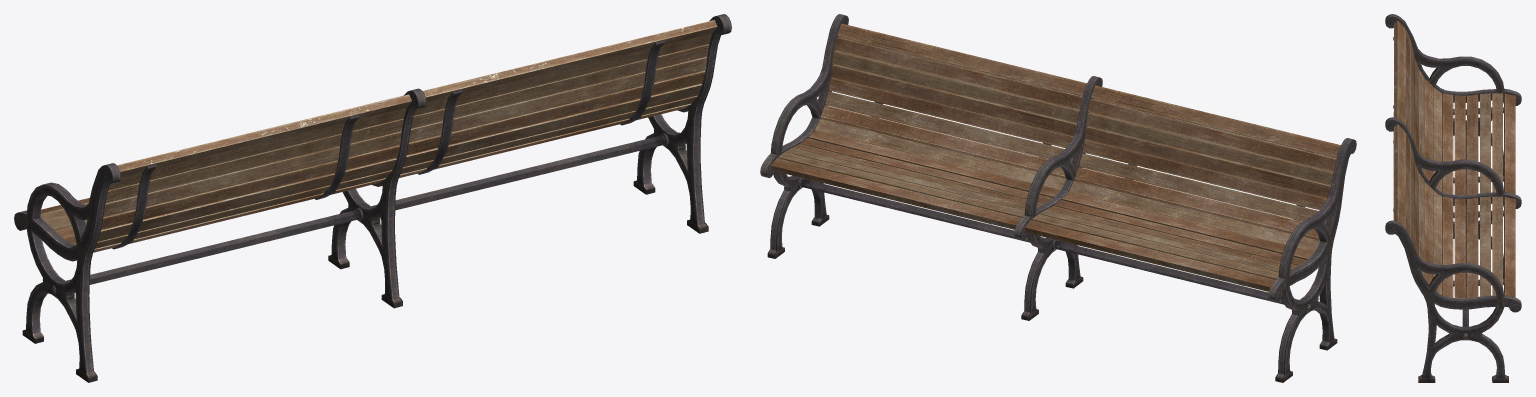
Rendered from Bench.glb.
3 renders of one model, left to right at view 1: azimuth 30°, elevation 25°; view 2: azimuth 150°, elevation 25°; view 3: azimuth 270°, elevation 25°, orthographic. The views are drawn at different scales.
Visible parts, largest first — view 1: Object_2; view 2: Object_2; view 3: Object_2.
Part boxes in pixels (box(x1,y1,x2,y2)): Object_2: box(14, 14, 731, 382); Object_2: box(760, 14, 1356, 382); Object_2: box(1385, 14, 1521, 382).
Bounding box in the file's own units: 305 × 108 × 83.96.
Materials: 1 (1 with a texture image).
